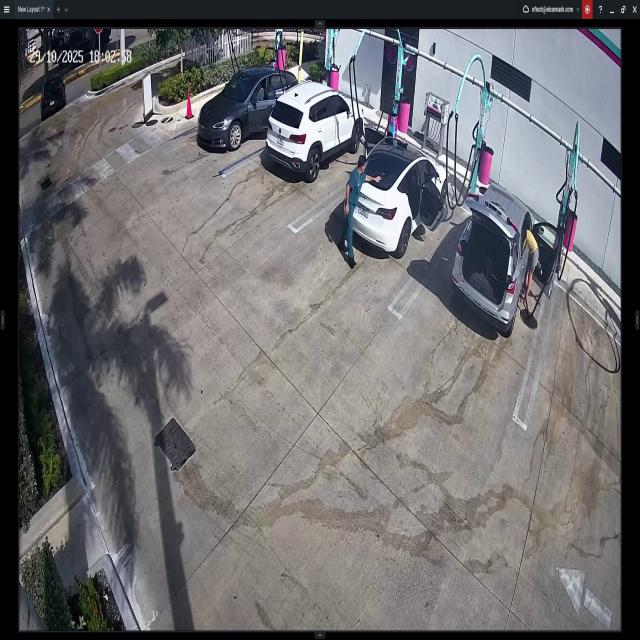Car: (456, 178, 561, 332), (350, 136, 446, 256), (266, 80, 362, 180), (196, 70, 298, 153), (39, 74, 67, 119)
